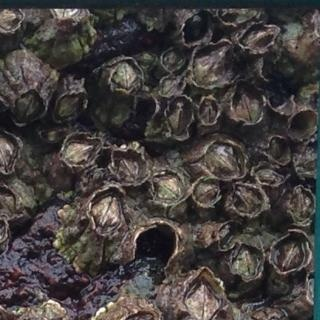Barnacle: (192, 42, 232, 87), (183, 276, 220, 320), (205, 142, 244, 182), (90, 191, 124, 232), (164, 97, 193, 140), (233, 85, 263, 124), (233, 244, 262, 284), (63, 139, 99, 168), (274, 235, 303, 270), (288, 188, 316, 224), (154, 173, 183, 206), (110, 58, 137, 92), (114, 152, 143, 182), (53, 93, 84, 121), (231, 185, 260, 214), (242, 25, 275, 50), (16, 90, 43, 120), (266, 135, 291, 165), (255, 168, 288, 188), (294, 150, 318, 175), (192, 182, 220, 203), (199, 94, 219, 123), (0, 184, 18, 216), (162, 48, 183, 69), (160, 77, 183, 96), (0, 2, 16, 28)
